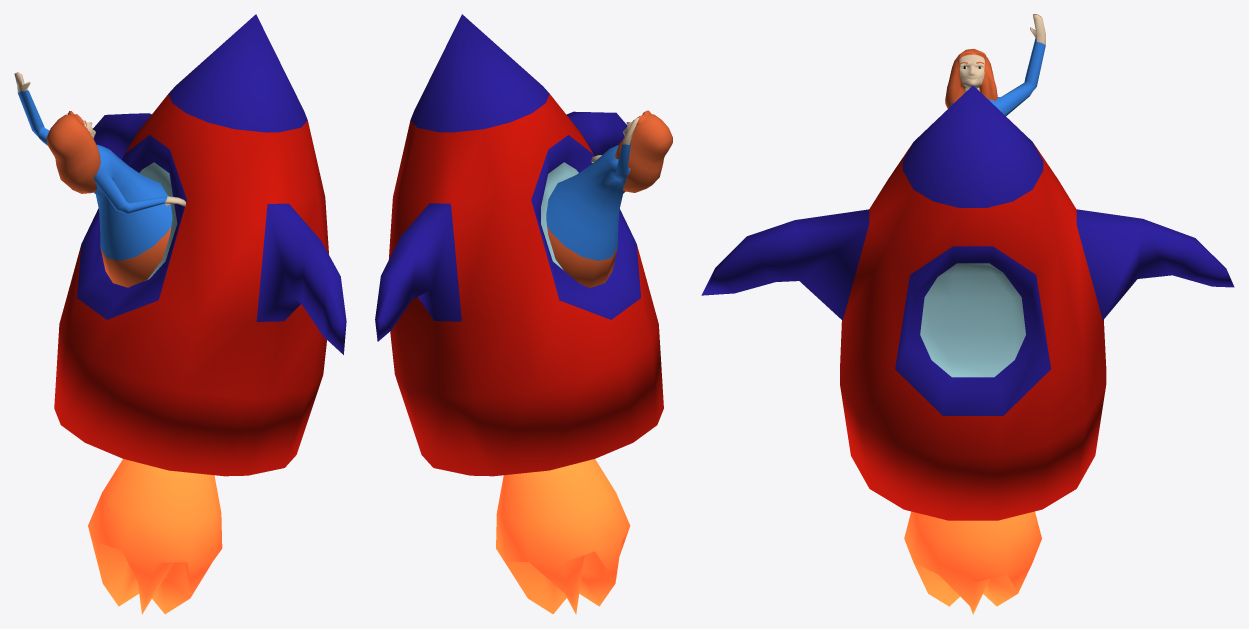
Rendered from chi-asset.glb.
3 views of the same model, side by side, from view 1: azimuth 30°, elevation 25°; view 2: azimuth 150°, elevation 25°; view 3: azimuth 270°, elevation 25° (orthographic).
Parts seen in each view (by area): view 1: Cylinder, Cylinder.002; view 2: Cylinder, Cylinder.002; view 3: Cylinder, Cylinder.002.
Boxes of the visible parts, left/top/right/bottom form: Cylinder: left=54, top=14, right=346, bottom=614; Cylinder.002: left=14, top=72, right=185, bottom=287; Cylinder: left=375, top=14, right=663, bottom=614; Cylinder.002: left=546, top=110, right=672, bottom=287; Cylinder: left=701, top=85, right=1234, bottom=614; Cylinder.002: left=945, top=14, right=1045, bottom=115.
Size of the model in its own units: 5.44 by 11.41 by 9.6.
